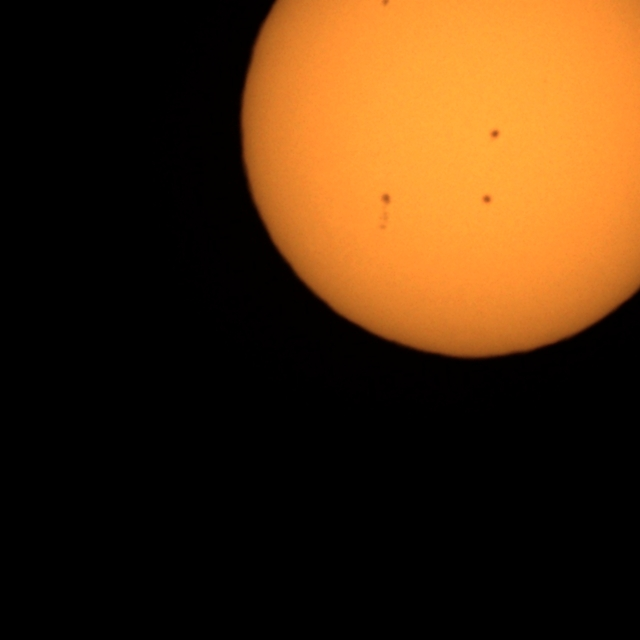sunspot: (377, 191, 394, 234), (379, 192, 393, 208), (488, 127, 502, 141), (480, 193, 493, 206), (379, 0, 391, 9)
